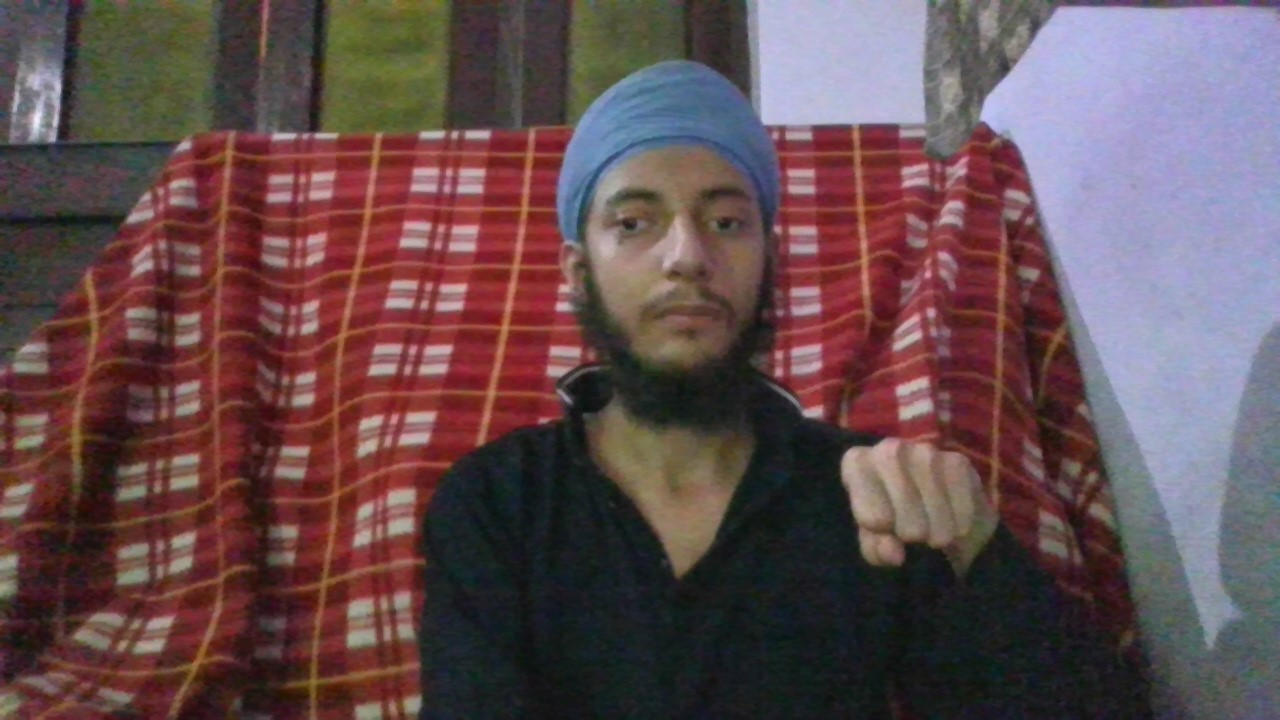Yes: (840, 437, 984, 566)
